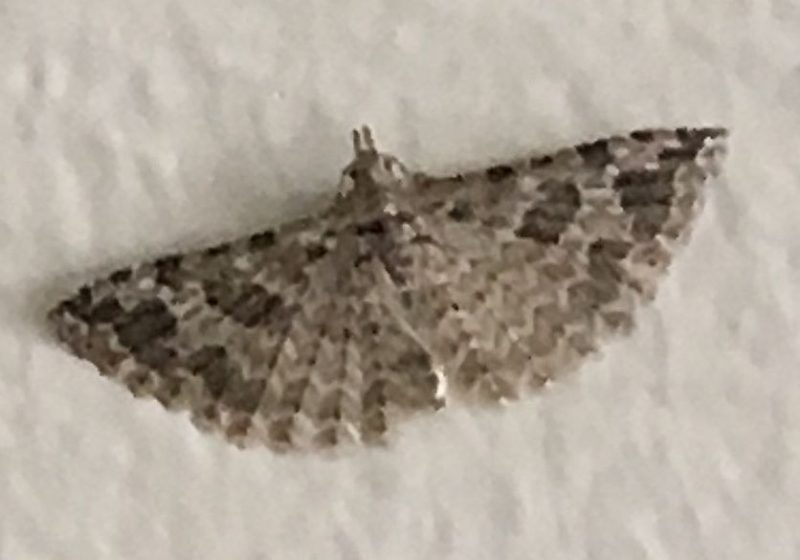Alucitidae: (42, 113, 733, 460)
moth: (44, 115, 735, 462)
